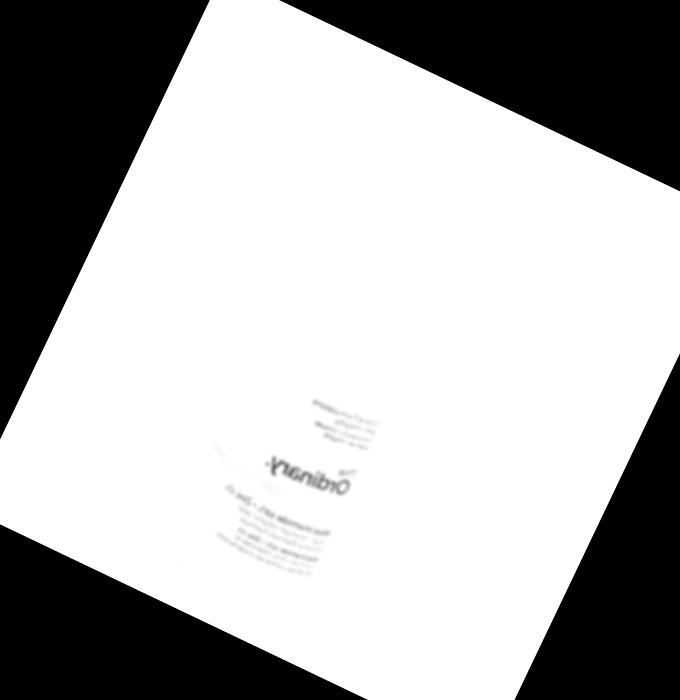cosmetic: (152, 98, 522, 632)
